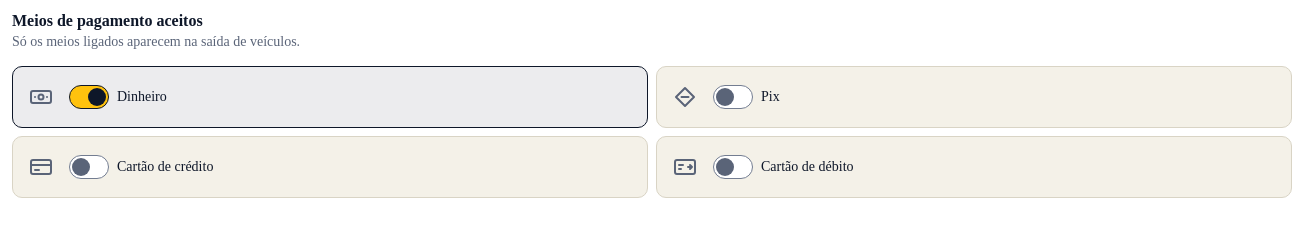
Test case: PagamentosFields › o erro some ao ligar qualquer meio
Click the switch named "Dinheiro": [89, 97] box 69,85 -> 109,109
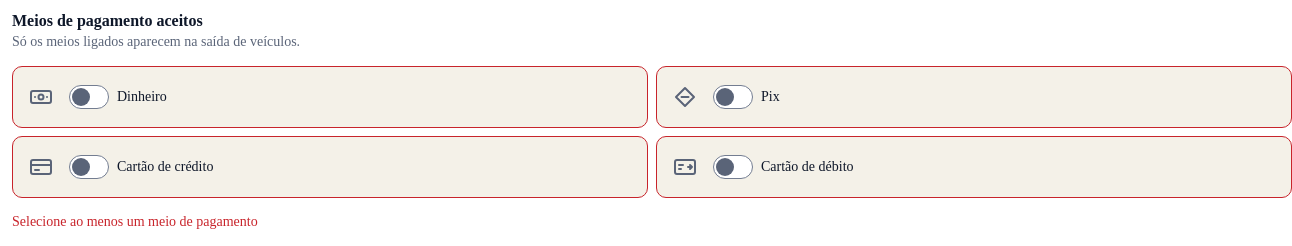
Result: the message "Selecione ao menos um meio de pagamento" is shown at 12,214 -> 258,229
Click the switch named "Cartão de débito": [733, 167] box 713,155 -> 753,179
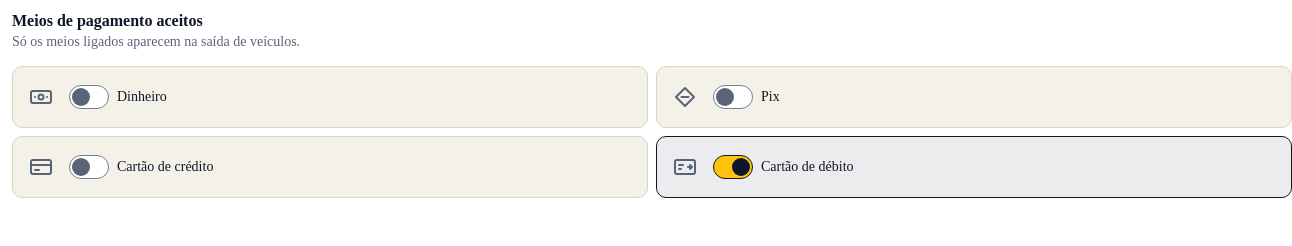
Result: the message "Selecione ao menos um meio de pagamento" is gone
